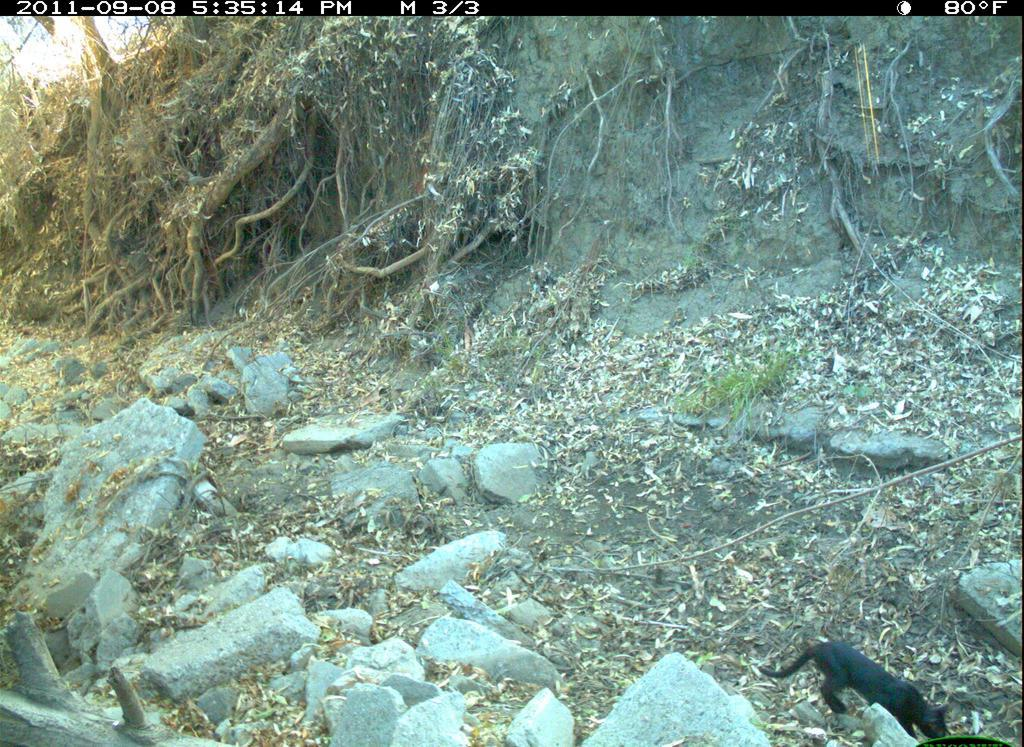cat: (735, 620, 978, 745)
